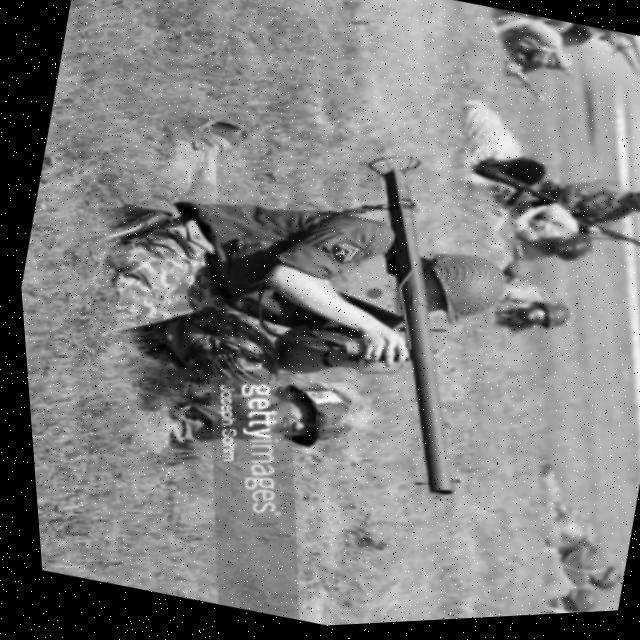rocket: (277, 135, 535, 525)
